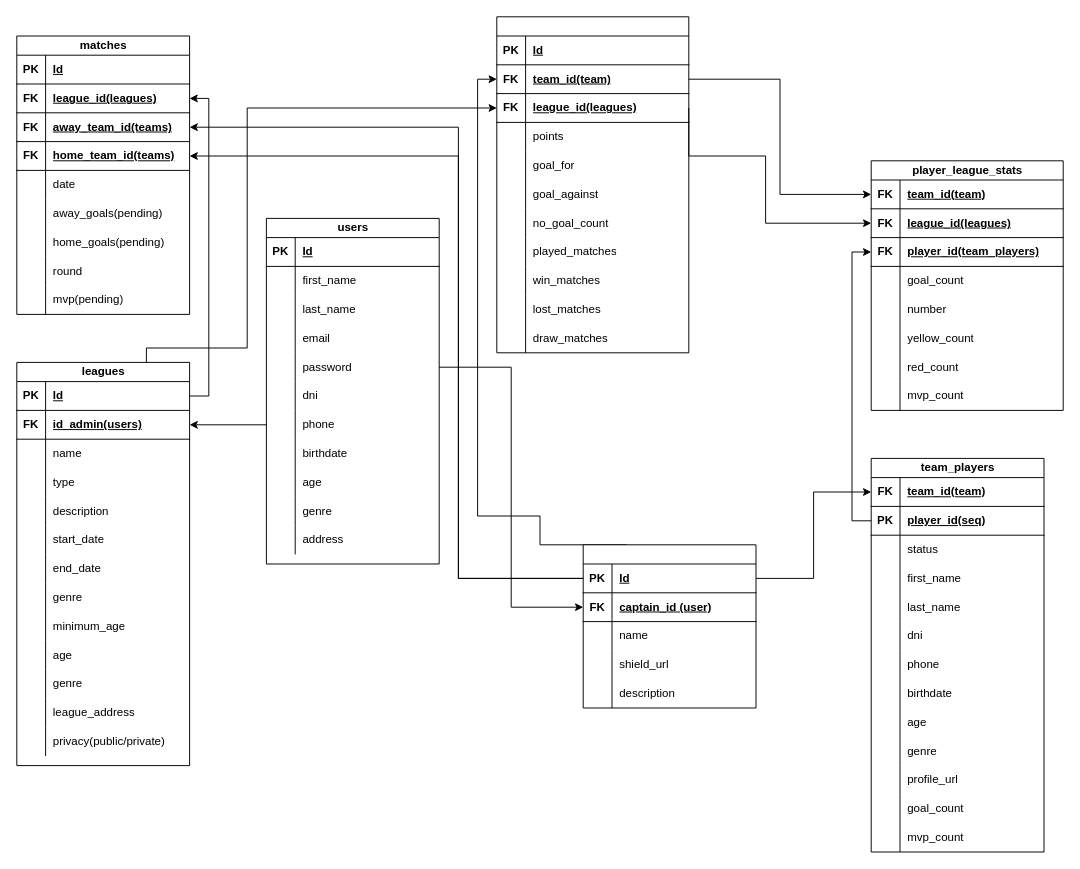
Image size: 1080x869. Some labels were removed from this diagram. Here are the shapes that lost their labels. From the top down, the box of each, then its label:
(496, 16, 689, 353): team_leagues
(582, 544, 756, 708): teams
